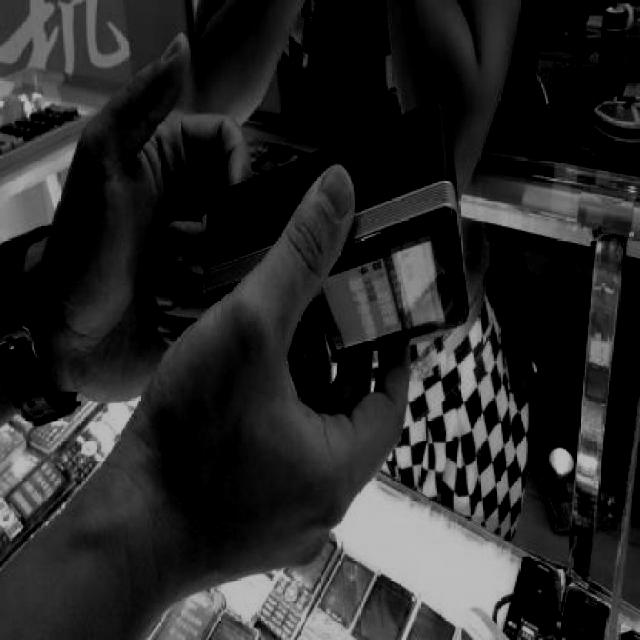fake: (284, 162, 472, 442), (256, 526, 346, 640), (0, 446, 75, 566), (296, 550, 379, 638), (502, 553, 567, 639), (350, 570, 424, 639), (58, 402, 122, 480), (28, 390, 104, 452), (147, 590, 227, 639), (218, 568, 282, 624), (554, 580, 611, 640), (402, 586, 462, 640), (206, 600, 262, 640), (0, 446, 42, 497), (252, 140, 302, 178), (0, 419, 28, 473), (16, 110, 50, 133), (0, 119, 34, 141), (30, 106, 64, 123), (10, 414, 33, 436)
